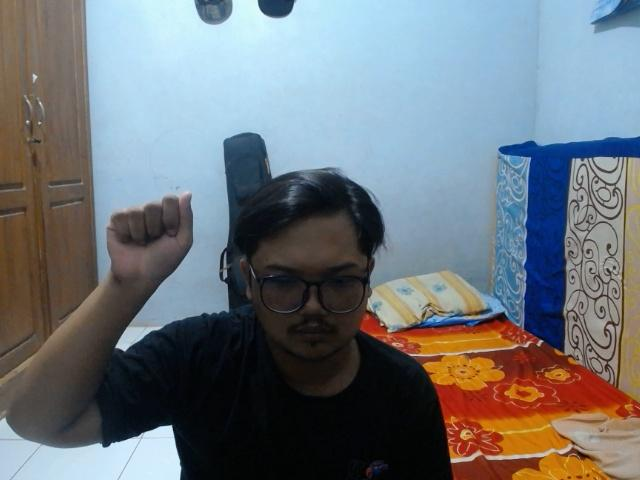Grab: (104, 190, 200, 293)
